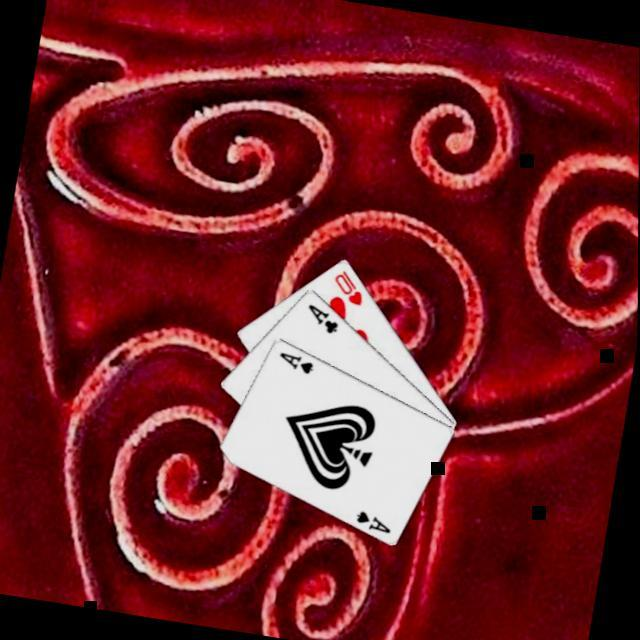10H: (330, 267, 372, 310)
AC: (303, 301, 346, 339)
AS: (353, 508, 398, 538), (276, 350, 320, 379)
